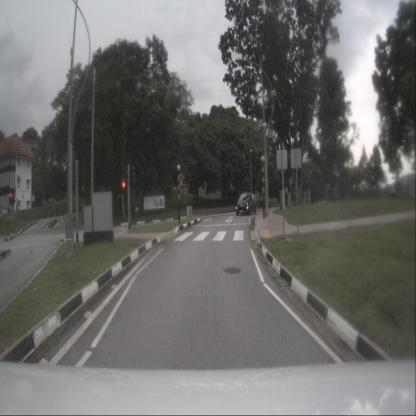vehicle-car: (236, 192, 256, 216)
